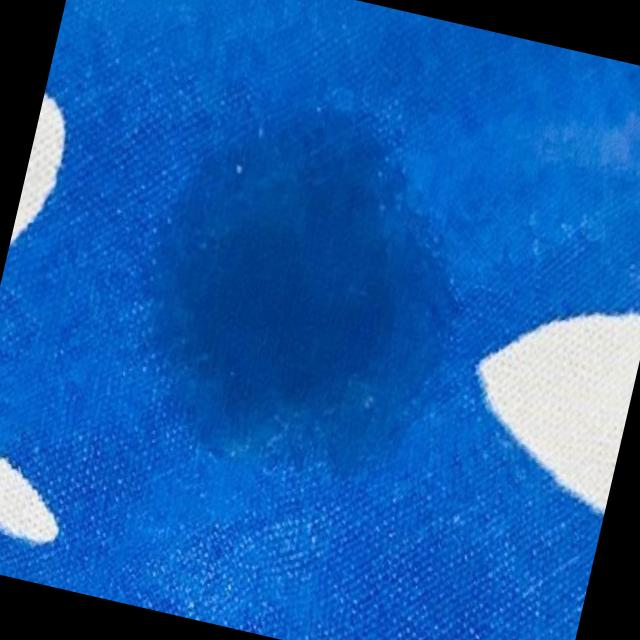stain: (114, 60, 507, 488)
